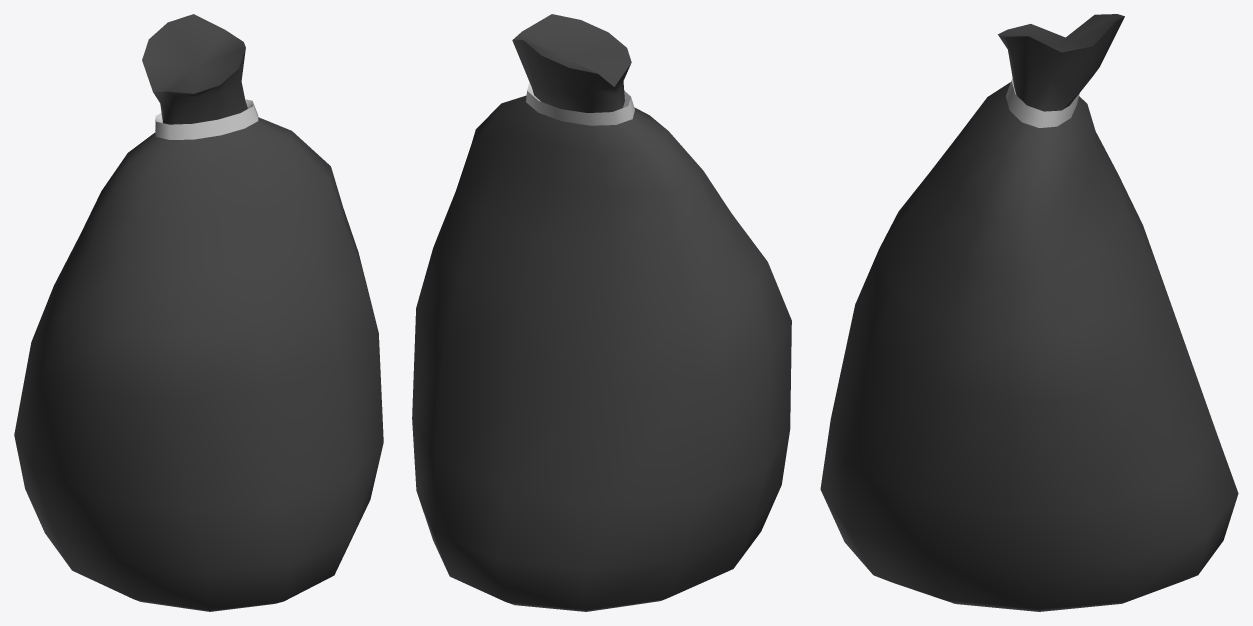
File: SM_Garbagebag_Middle.fbx
3 views of the same model, side by side, from view 1: azimuth 30°, elevation 25°; view 2: azimuth 150°, elevation 25°; view 3: azimuth 270°, elevation 25° (orthographic). The views are drawn at different scales.
Parts seen in each view (by area): view 1: GarbageBag_Middle; view 2: GarbageBag_Middle; view 3: GarbageBag_Middle.
Boxes of the visible parts, left/top/right/bottom form: GarbageBag_Middle: left=14, top=14, right=383, bottom=611; GarbageBag_Middle: left=412, top=14, right=791, bottom=611; GarbageBag_Middle: left=820, top=14, right=1238, bottom=611.
Size of the model in its own units: 13.74 by 20.54 by 13.98.
